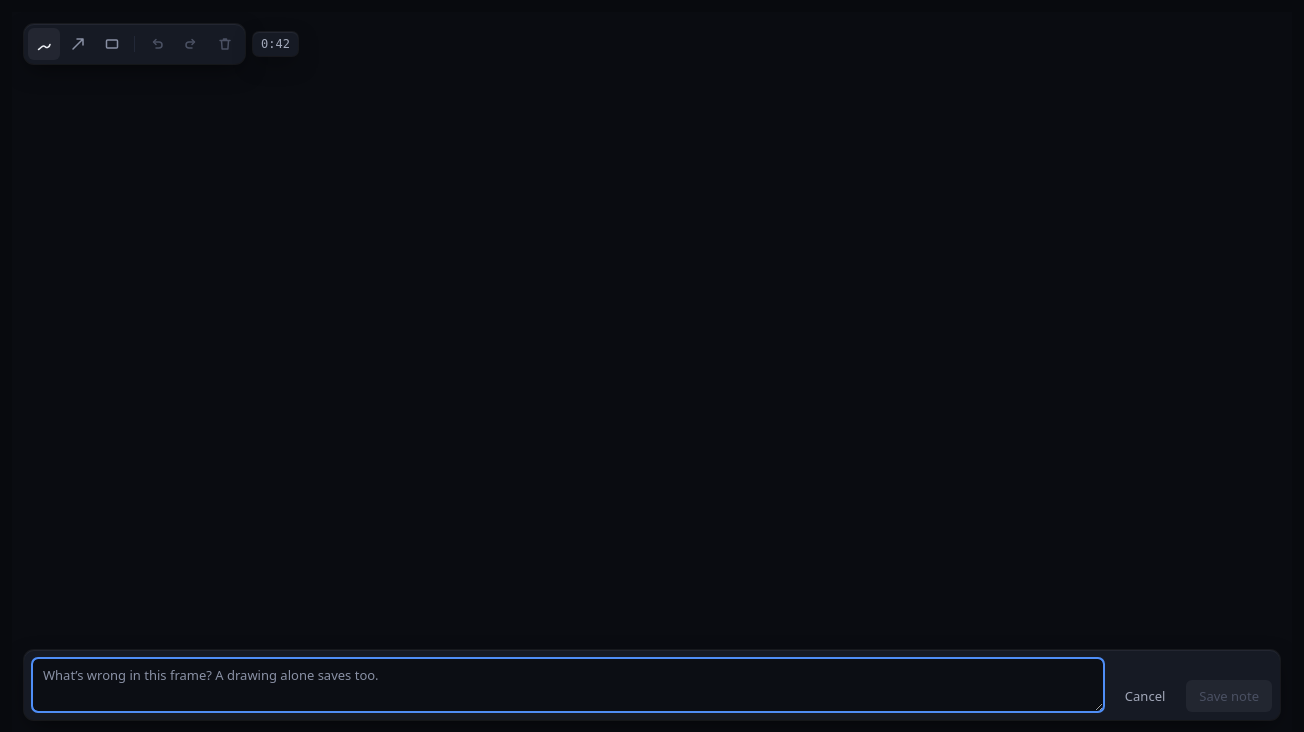
Test: AnnotationOverlay › stays open and says why when the save fails
The image size is (1304, 732).
Press the mouse on the drawing named "draw on this frame" at coordinates (652, 372), box [12,12,1292,731]
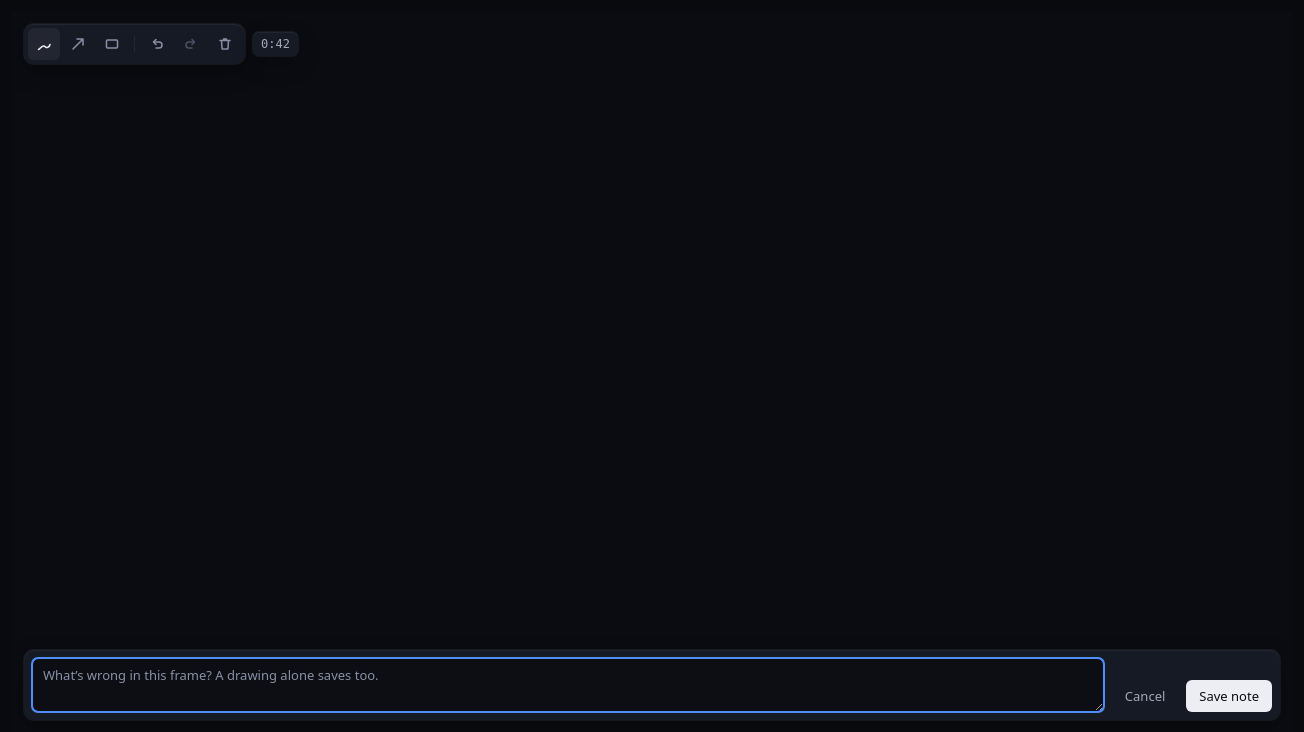
Click the button "Save note" at coordinates (1229, 696), box [1186,680,1272,712]
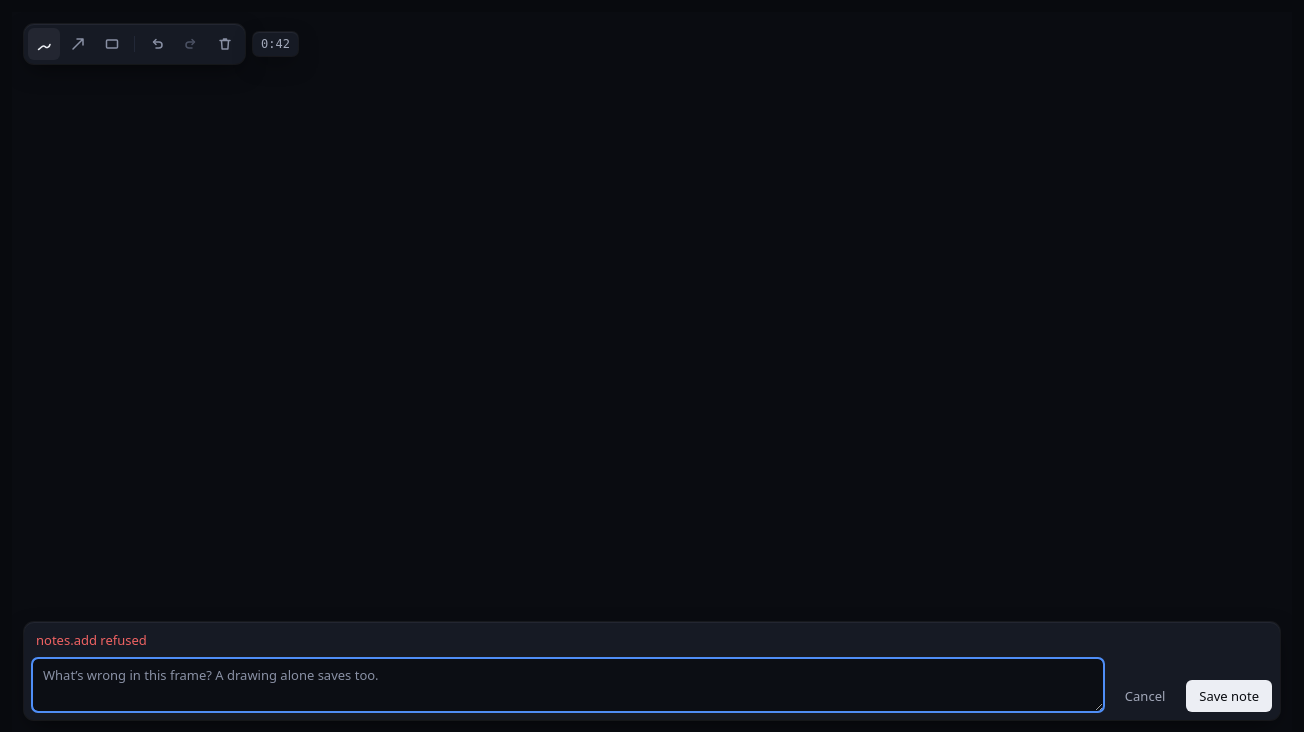
Result: the button "Save note" is enabled at [1186,680,1272,712]
Result: the message reads "notes.add refused" at [36,631,147,649]
